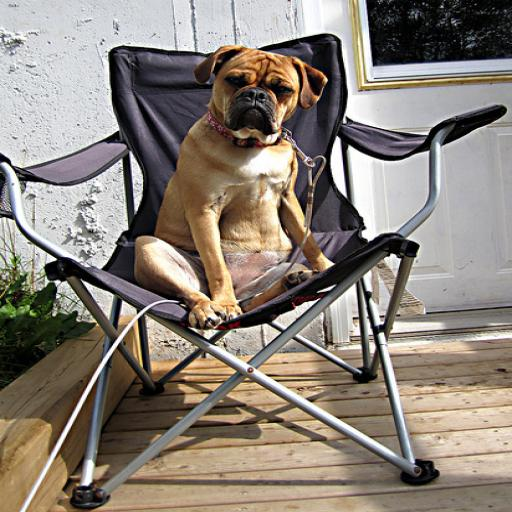dog_face: (188, 40, 330, 139)
